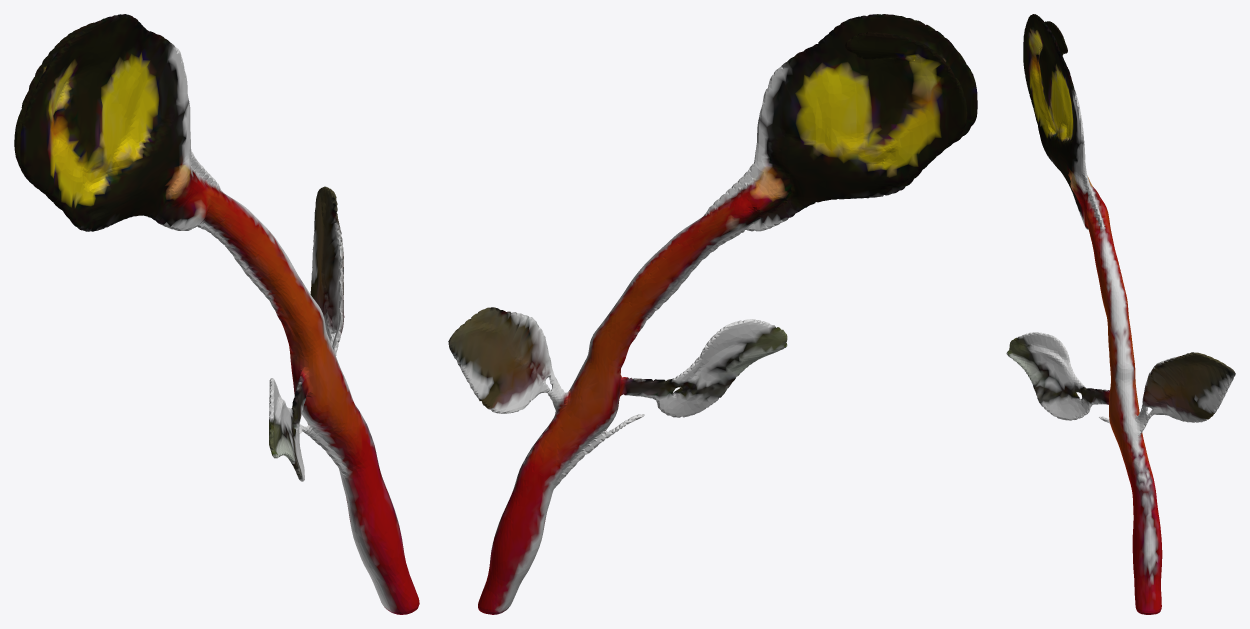
Rendered from rose_yel.glb.
3 renders of one model, left to right at view 1: azimuth 30°, elevation 25°; view 2: azimuth 150°, elevation 25°; view 3: azimuth 270°, elevation 25°, orthographic. The views are drawn at different scales.
Parts seen in each view (by area): view 1: geometry_0; view 2: geometry_0; view 3: geometry_0.
Part boxes in pixels (left/top/right/bottom): geometry_0: left=14, top=14, right=419, bottom=614; geometry_0: left=448, top=14, right=977, bottom=614; geometry_0: left=1006, top=14, right=1235, bottom=614.
Bounding box in the file's own units: 0.4353 × 0.625 × 0.2756.
